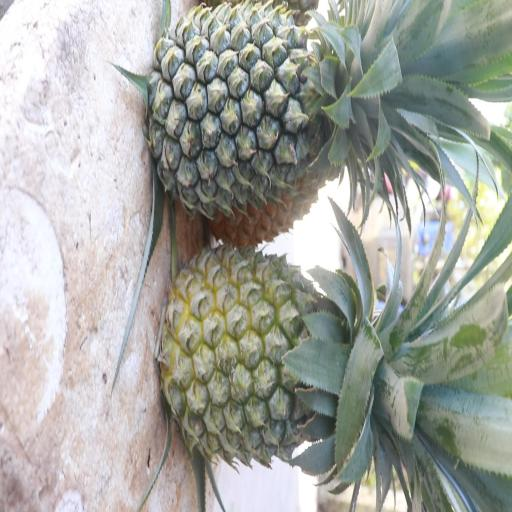------------------------------: (157, 238, 434, 460)
